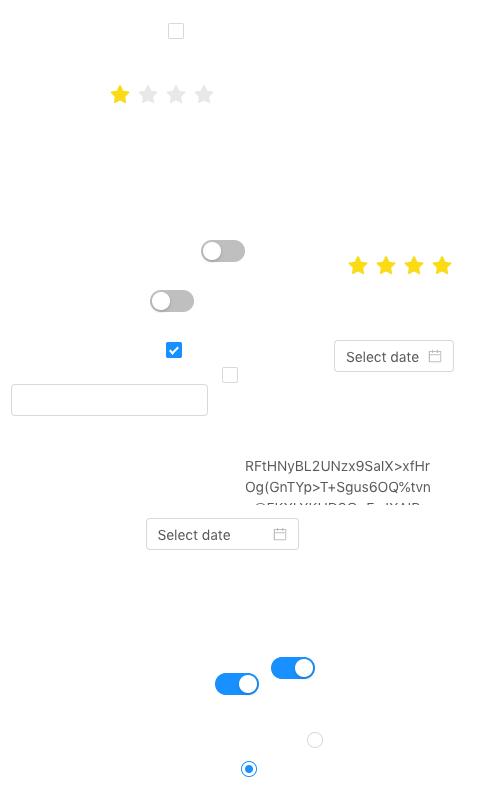Checkbox: (222, 364, 238, 385), (168, 20, 184, 41), (166, 339, 182, 360)
DatePicker: (146, 518, 299, 550), (334, 340, 454, 372)
Input: (11, 384, 208, 416)
Radio: (307, 729, 323, 749), (241, 758, 257, 778)
Rate: (110, 78, 230, 110), (348, 249, 468, 281)
Switch: (215, 672, 259, 696), (150, 289, 194, 313), (271, 656, 315, 680), (201, 239, 245, 263)
Text: (245, 455, 431, 505)
